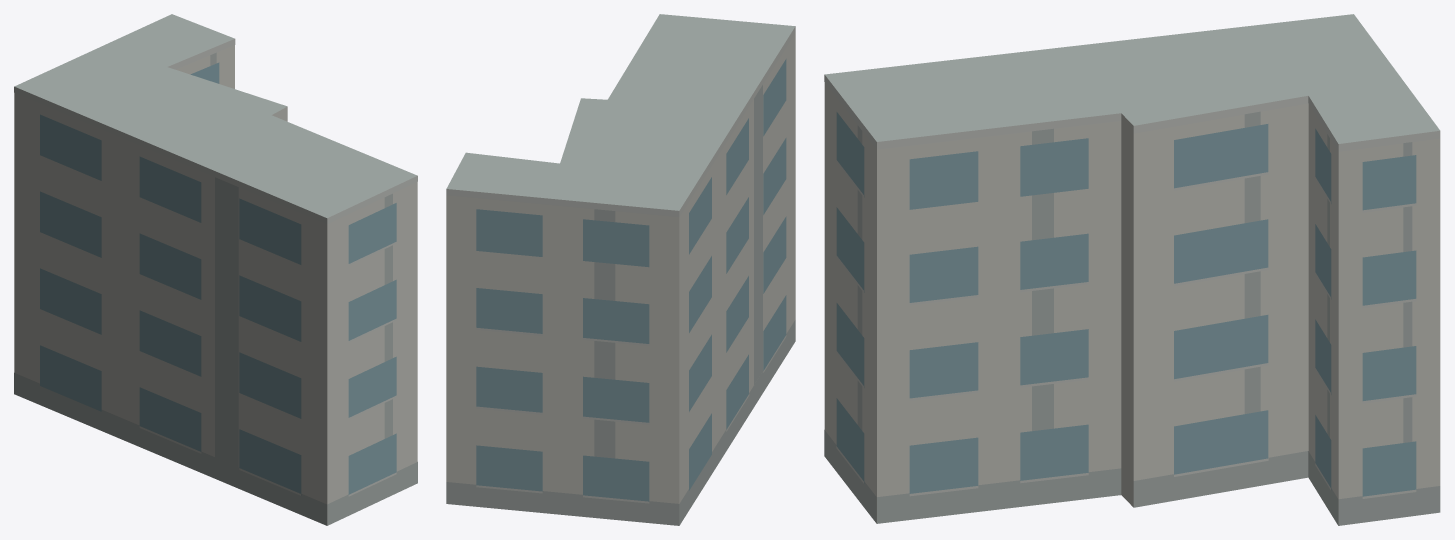
The model's file is residential-2a5484e7-3acb-461b-be10-456fdf288e09.glb.
The picture shows the model from 3 angles, left to right: view 1: azimuth 30°, elevation 25°; view 2: azimuth 150°, elevation 25°; view 3: azimuth 270°, elevation 25°; orthographic projection. The views are drawn at different scales.
Parts seen in each view (by area): view 1: residential-2a5484e7-3acb-461b-be10-456fdf288e09.tmp; view 2: residential-2a5484e7-3acb-461b-be10-456fdf288e09.tmp; view 3: residential-2a5484e7-3acb-461b-be10-456fdf288e09.tmp.
Part boxes in pixels (bbox=[...]): residential-2a5484e7-3acb-461b-be10-456fdf288e09.tmp: bbox=[14, 14, 417, 525]; residential-2a5484e7-3acb-461b-be10-456fdf288e09.tmp: bbox=[446, 14, 795, 525]; residential-2a5484e7-3acb-461b-be10-456fdf288e09.tmp: bbox=[824, 14, 1440, 525].
Bounding box in the file's own units: 8.92 × 12.2 × 17.84.
